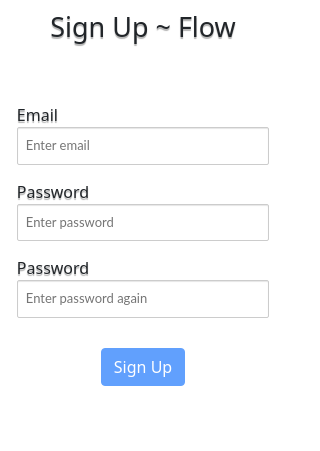
it: check if passwords match
In the password field with test id "pass1": point(143, 223) left=17, top=204, right=269, bottom=241, type "HzdkXy"
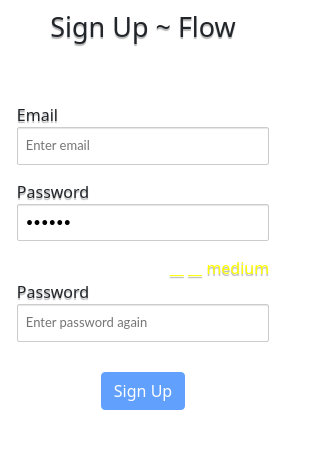
In the password field with test id "pass2": point(143, 323) left=17, top=304, right=269, bottom=342, type "HzdkXy"
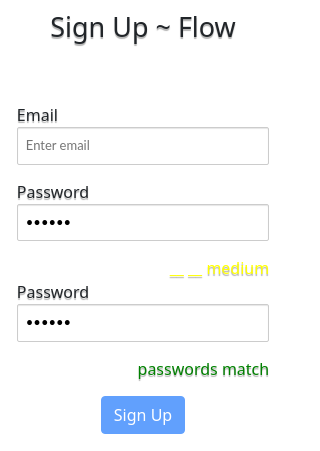
expect the text "passwords match" is shown: met, box left=138, top=358, right=269, bottom=380
